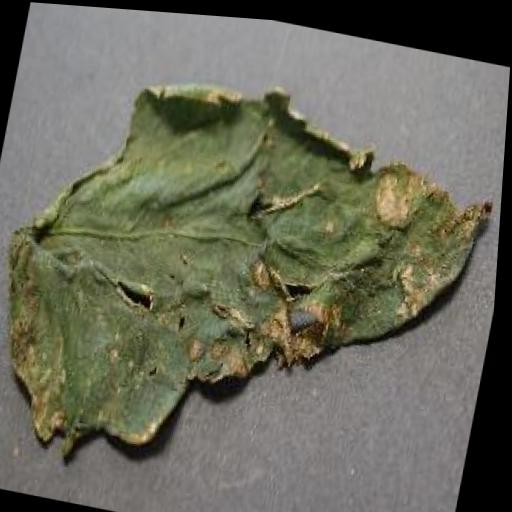Bacterial Spot: (0, 29, 510, 512)
